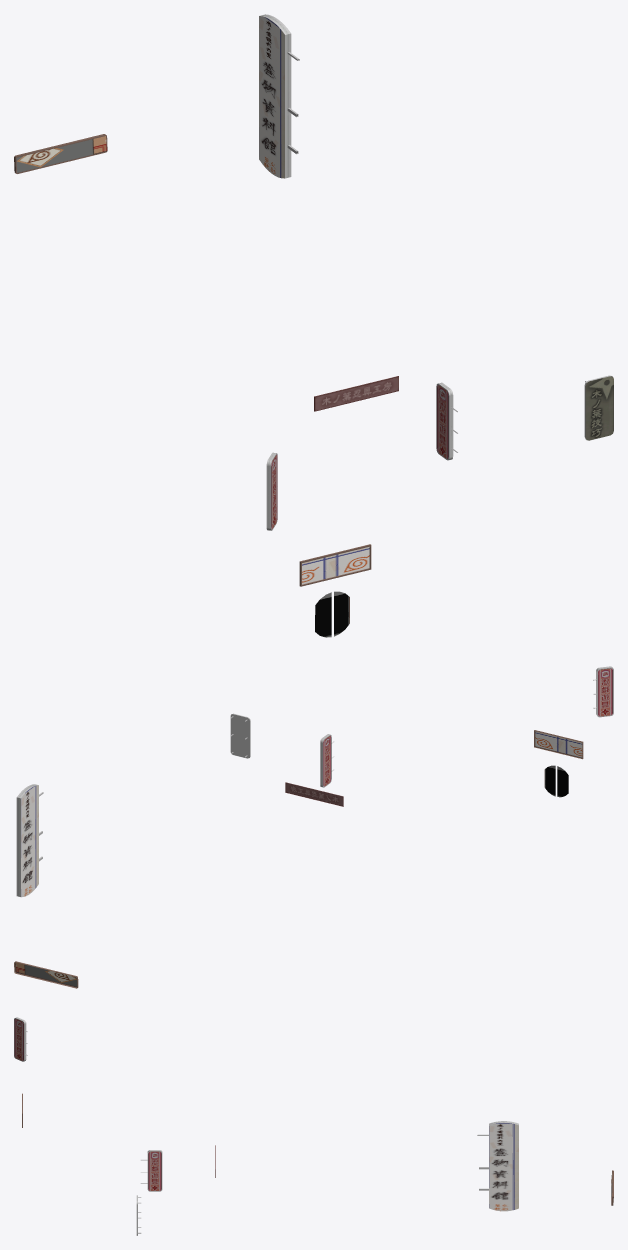
Rendered from SM_ENV_KNVLLG_Signs_6.fbx.
3 views of the same model, one above another, from view 1: azimuth 30°, elevation 25°; view 2: azimuth 150°, elevation 25°; view 3: azimuth 270°, elevation 25° (orthographic). The views are drawn at different scales.
Visible parts, largest first — view 1: SM_ENV_KNVLLG_Signs_6.mo; view 2: SM_ENV_KNVLLG_Signs_6.mo; view 3: SM_ENV_KNVLLG_Signs_6.mo.
Part boxes in pixels (x1,y1,x2,y2): SM_ENV_KNVLLG_Signs_6.mo: [14, 14, 613, 637]; SM_ENV_KNVLLG_Signs_6.mo: [14, 666, 613, 988]; SM_ENV_KNVLLG_Signs_6.mo: [14, 1017, 613, 1235].
Bounding box in the file's own units: 5211 × 2514 × 10351.
